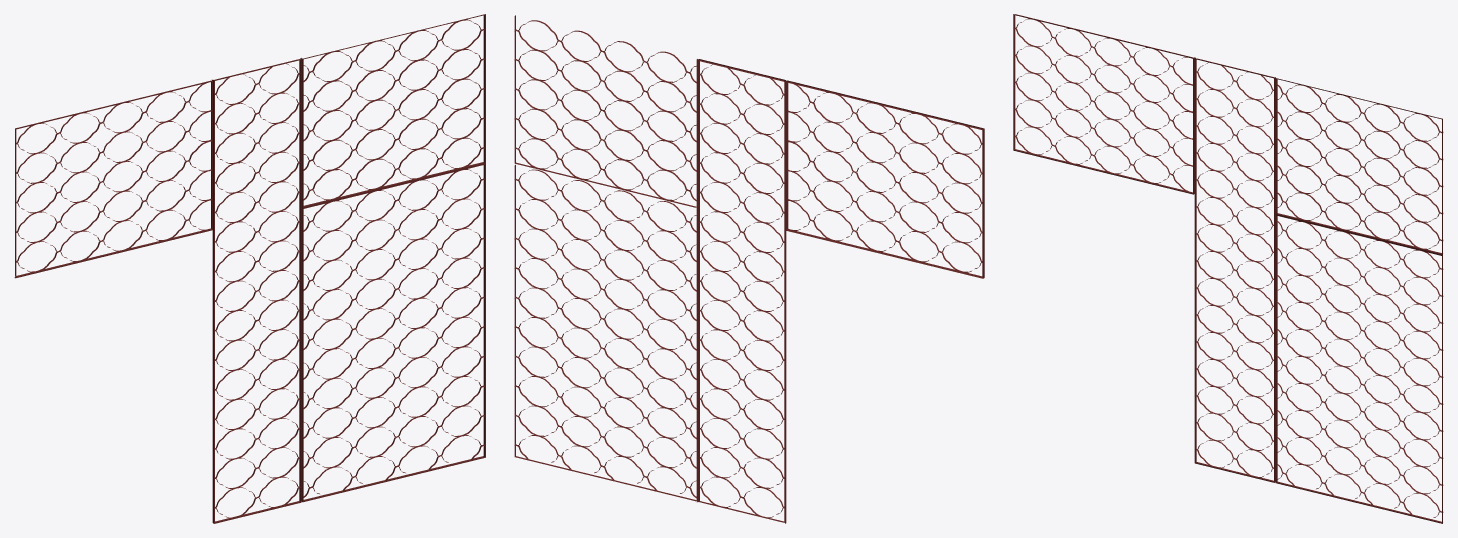
Rendered from p3-entrance-enter-decor.fbx.
The picture shows the model from 3 angles, left to right: view 1: azimuth 30°, elevation 25°; view 2: azimuth 150°, elevation 25°; view 3: azimuth 330°, elevation 25°; orthographic projection. The views are drawn at different scales.
Visible parts, largest first — view 1: p3-entrance-enter-decor; view 2: p3-entrance-enter-decor; view 3: p3-entrance-enter-decor.
Part boxes in pixels (x1,y1,x2,y2): p3-entrance-enter-decor: [14, 14, 485, 523]; p3-entrance-enter-decor: [514, 15, 984, 523]; p3-entrance-enter-decor: [1013, 14, 1443, 523].
Size of the model in its own units: 391 by 352 by 2.
